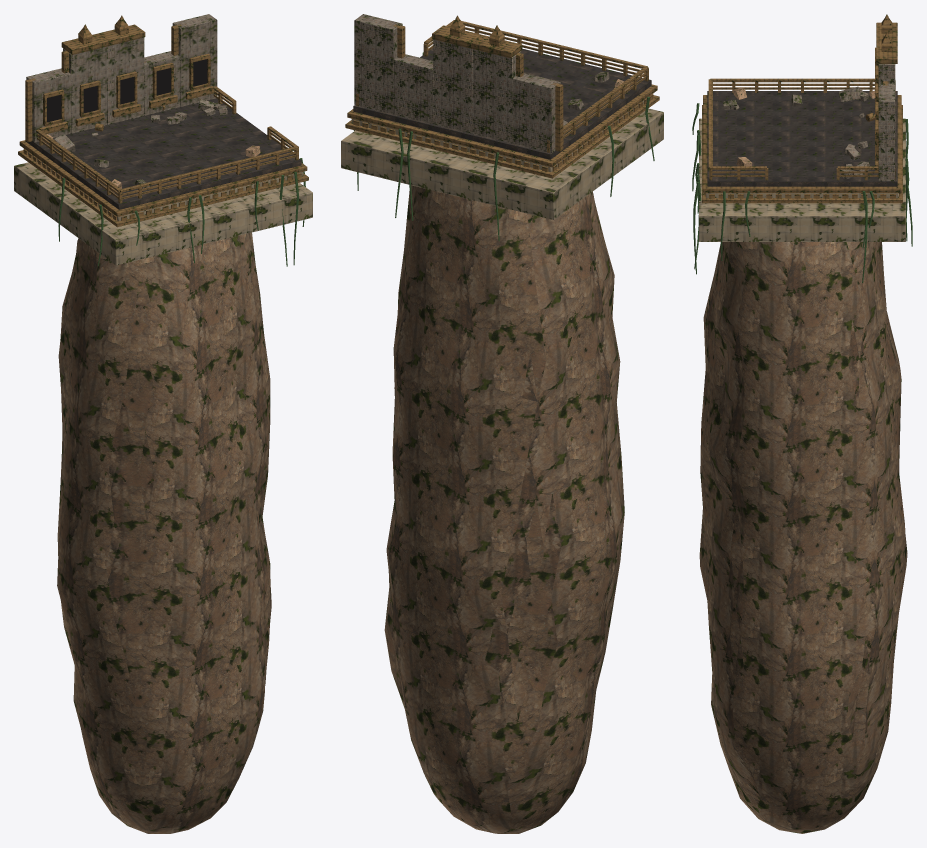
The model's file is Room_Entrance.fbx.
3 views of the same model, side by side, from view 1: azimuth 30°, elevation 25°; view 2: azimuth 150°, elevation 25°; view 3: azimuth 270°, elevation 25° (orthographic). The views are drawn at different scales.
Parts seen in each view (by area): view 1: Entrance_Rock_LOD0, Entrance_Structure_LOD0; view 2: Entrance_Rock_LOD0, Entrance_Structure_LOD0; view 3: Entrance_Rock_LOD0, Entrance_Structure_LOD0.
Boxes of the visible parts, bbox=[...] form: Entrance_Rock_LOD0: bbox=[57, 232, 271, 833]; Entrance_Structure_LOD0: bbox=[14, 14, 312, 266]; Entrance_Rock_LOD0: bbox=[384, 185, 624, 833]; Entrance_Structure_LOD0: bbox=[341, 14, 663, 241]; Entrance_Rock_LOD0: bbox=[699, 242, 907, 833]; Entrance_Structure_LOD0: bbox=[692, 14, 912, 282].
Size of what is drawn, in the model's own units: 20.5 by 73.64 by 18.51.
